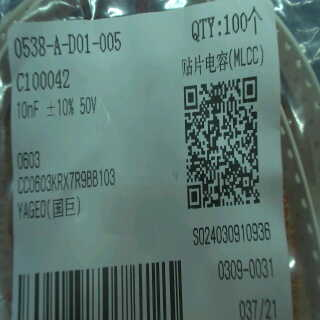10nF: (14, 98, 46, 122)
